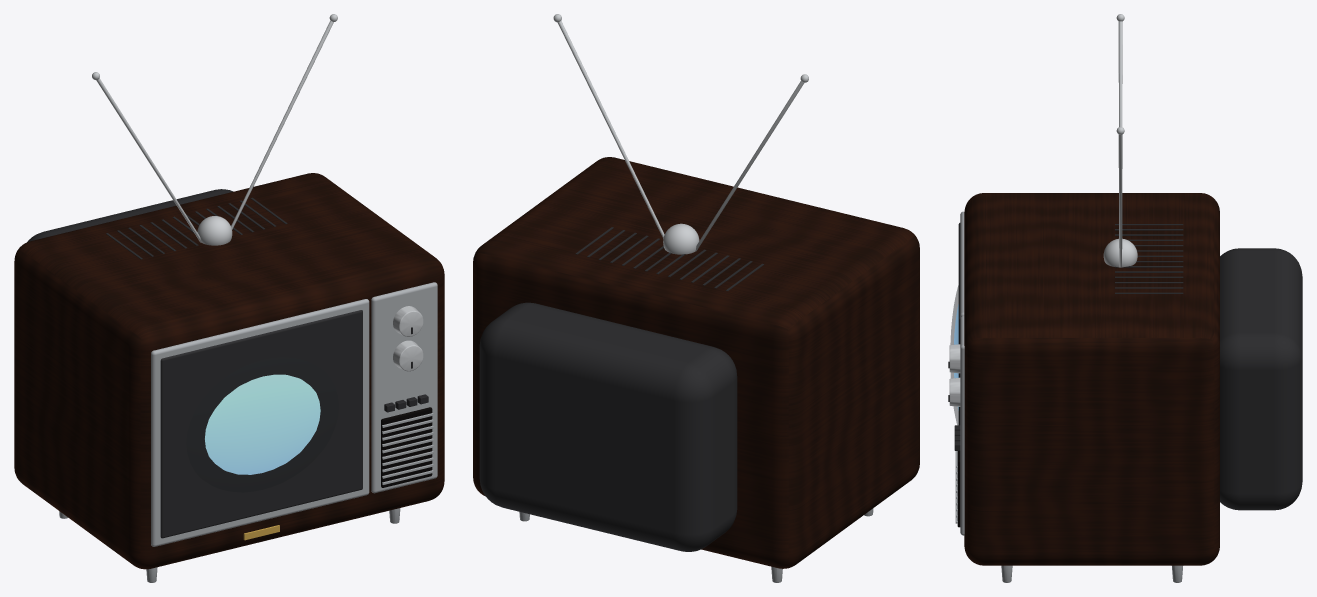
The picture shows the model from 3 angles, left to right: view 1: azimuth 30°, elevation 25°; view 2: azimuth 150°, elevation 25°; view 3: azimuth 270°, elevation 25°; orthographic projection. The views are drawn at different scales.
Visible parts, largest first — view 1: case, bezel inner, screen, screen glow, panel, bezel, grille, antenna (×2), knob (×2), back bulge, antenna base; view 2: case, back bulge, antenna (×2), antenna base; view 3: case, back bulge, panel, antenna (×2), antenna base, bezel, screen.
Boxes of the visible parts, x1=… form: case: x1=14, y1=173, x2=444, y2=569; bezel inner: x1=160, y1=310, x2=362, y2=538; screen: x1=186, y1=357, x2=338, y2=492; screen glow: x1=205, y1=374, x2=320, y2=474; panel: x1=371, y1=282, x2=437, y2=493; bezel: x1=151, y1=299, x2=369, y2=546; grille: x1=381, y1=407, x2=432, y2=487; antenna (×2): x1=96, y1=20, x2=333, y2=242; knob (×2): x1=393, y1=306, x2=423, y2=371; back bulge: x1=27, y1=189, x2=232, y2=242; antenna base: x1=197, y1=216, x2=232, y2=245; case: x1=473, y1=157, x2=919, y2=568; back bulge: x1=479, y1=302, x2=737, y2=551; antenna (×2): x1=557, y1=21, x2=804, y2=251; antenna base: x1=663, y1=223, x2=699, y2=254; case: x1=964, y1=193, x2=1219, y2=565; back bulge: x1=1220, y1=248, x2=1302, y2=510; panel: x1=960, y1=316, x2=964, y2=535; antenna (×2): x1=1118, y1=21, x2=1122, y2=267; antenna base: x1=1103, y1=238, x2=1137, y2=267; bezel: x1=960, y1=211, x2=964, y2=318; screen: x1=950, y1=286, x2=958, y2=424.
Bounding box in the file's own units: 0.62 × 0.8789 × 0.623.
Materials: 8 (2 with a texture image).
